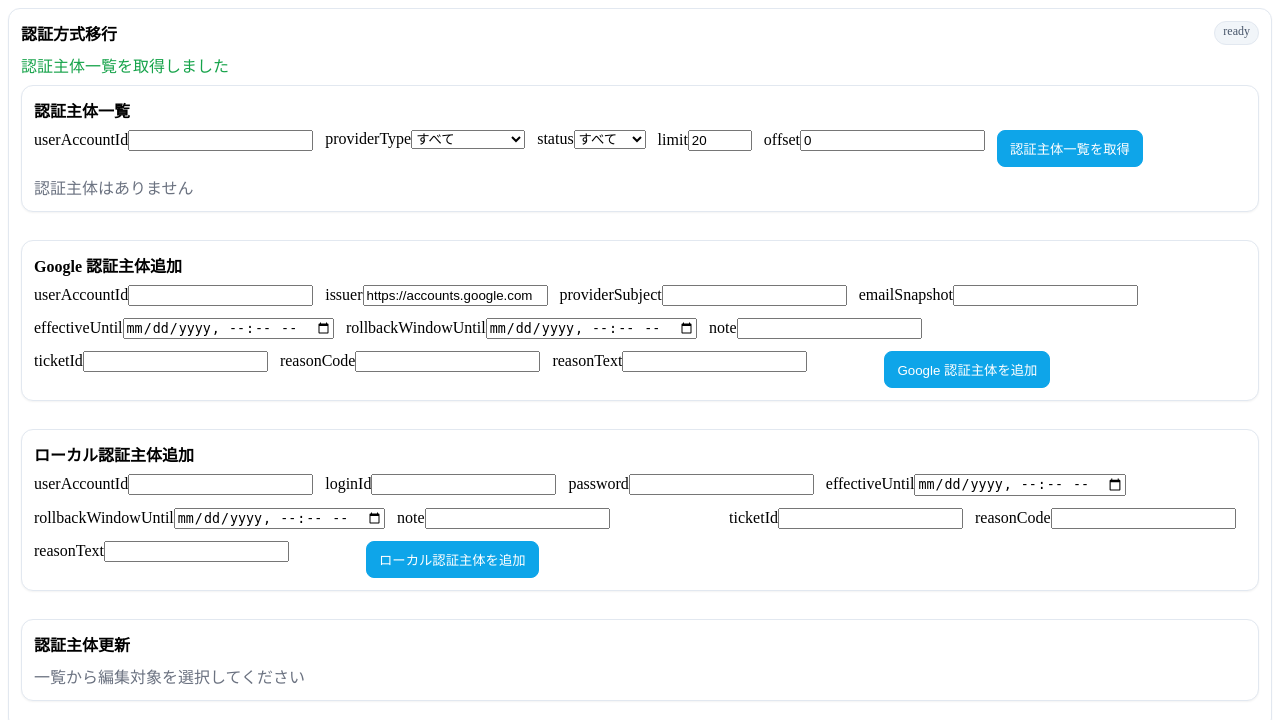
Test: AuthIdentityMigrationCard › shows server error when local link fails
Expected: the text "認証主体はありません" is shown, [34,180,194,197]
Step 1. Type "user-2" into the field with test id "local-link-user-account-id" → (221, 485), box [128,474,313,495]
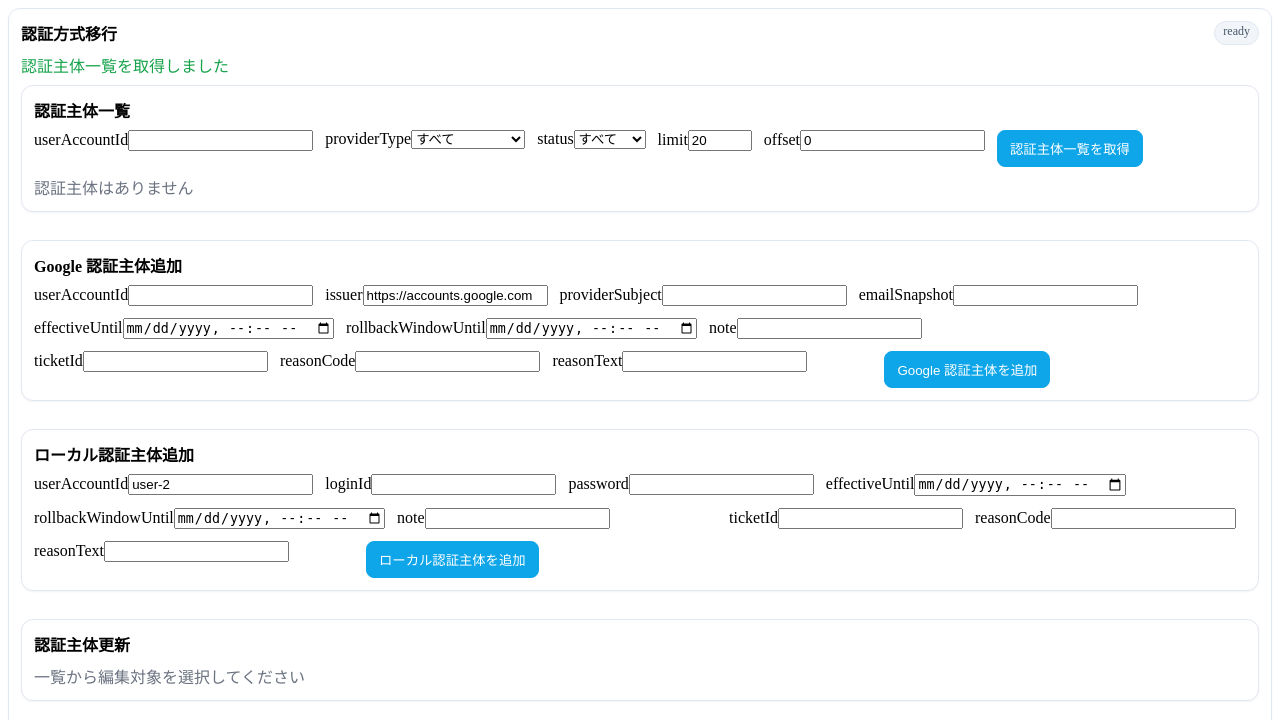
Step 2. Type "john@example.com" into the field with test id "local-link-login-id" → (464, 485), box [371,474,556,495]
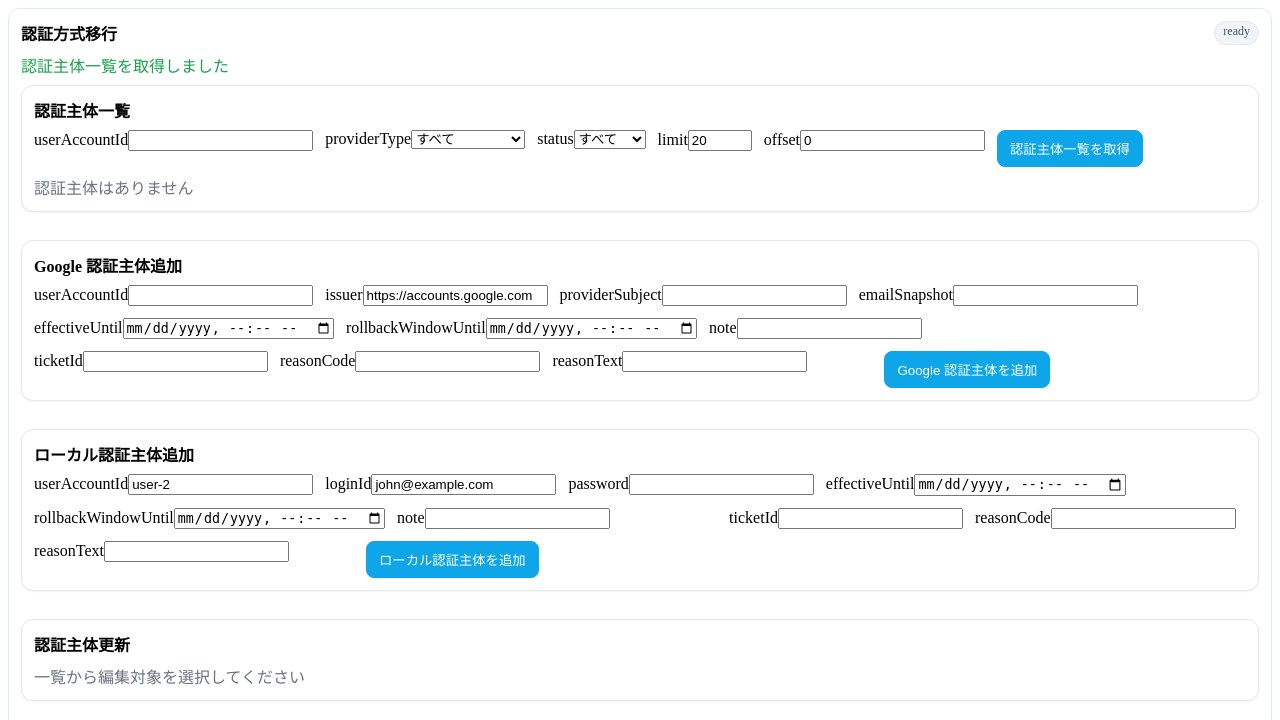
Step 3. Type "Password123!" into the password field with test id "local-link-password" → (721, 485), box [629,474,814,495]
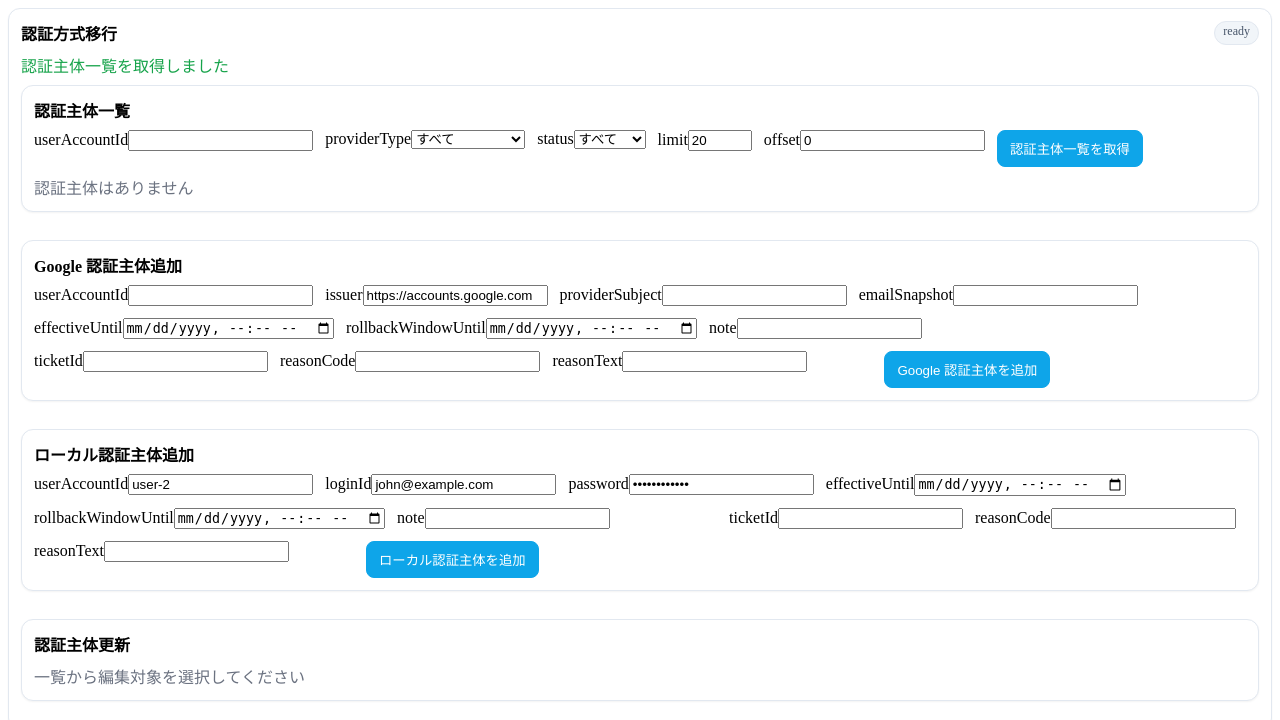
Step 4. Type "TICKET-2" into the field with test id "local-link-ticket-id" → (870, 518), box [778,508,963,529]
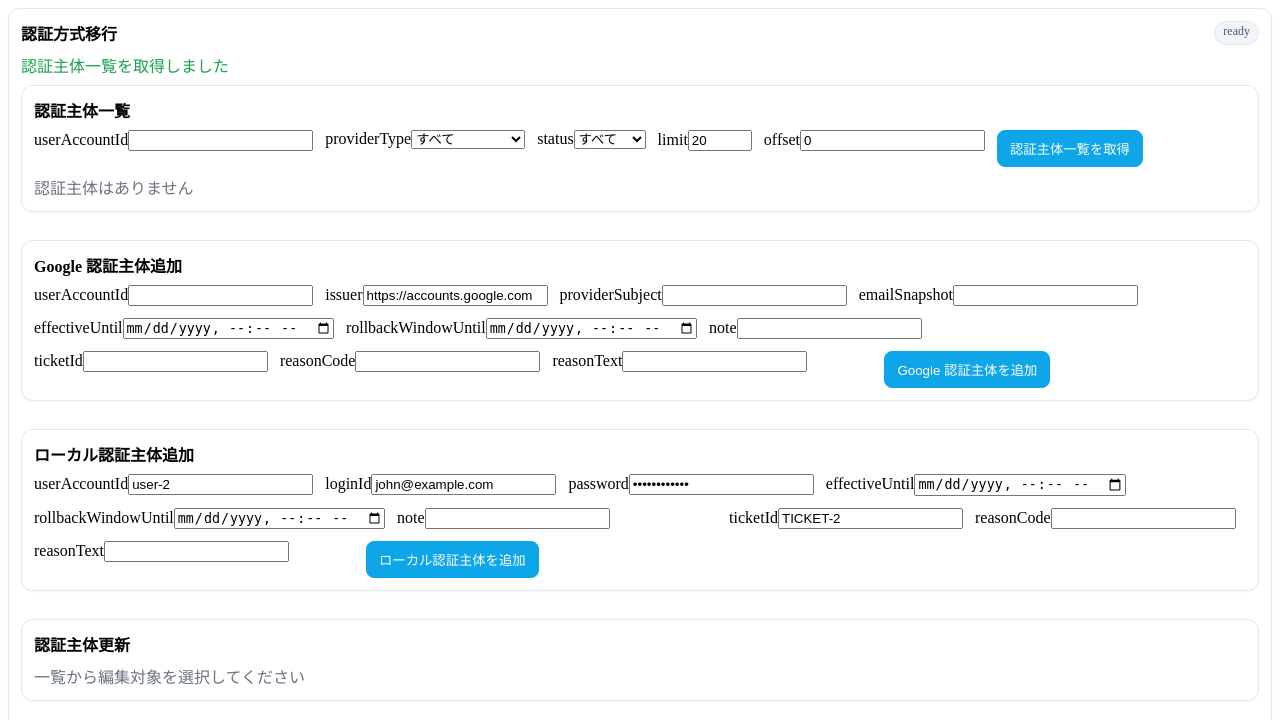
Step 5. Type "LOCAL_LINK" into the field with test id "local-link-reason-code" → (1143, 518), box [1050,508,1236,529]
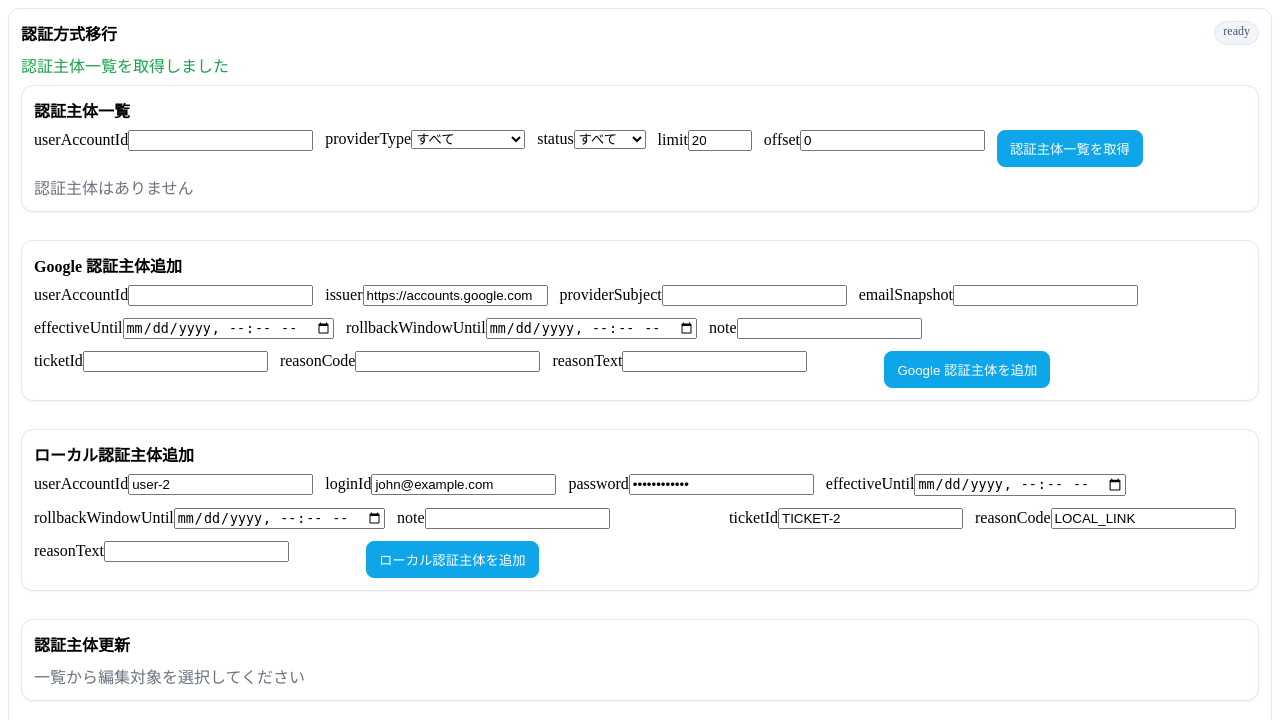
Step 6. Click the button with test id "local-link-submit" → (452, 560), box [366,541,539,578]
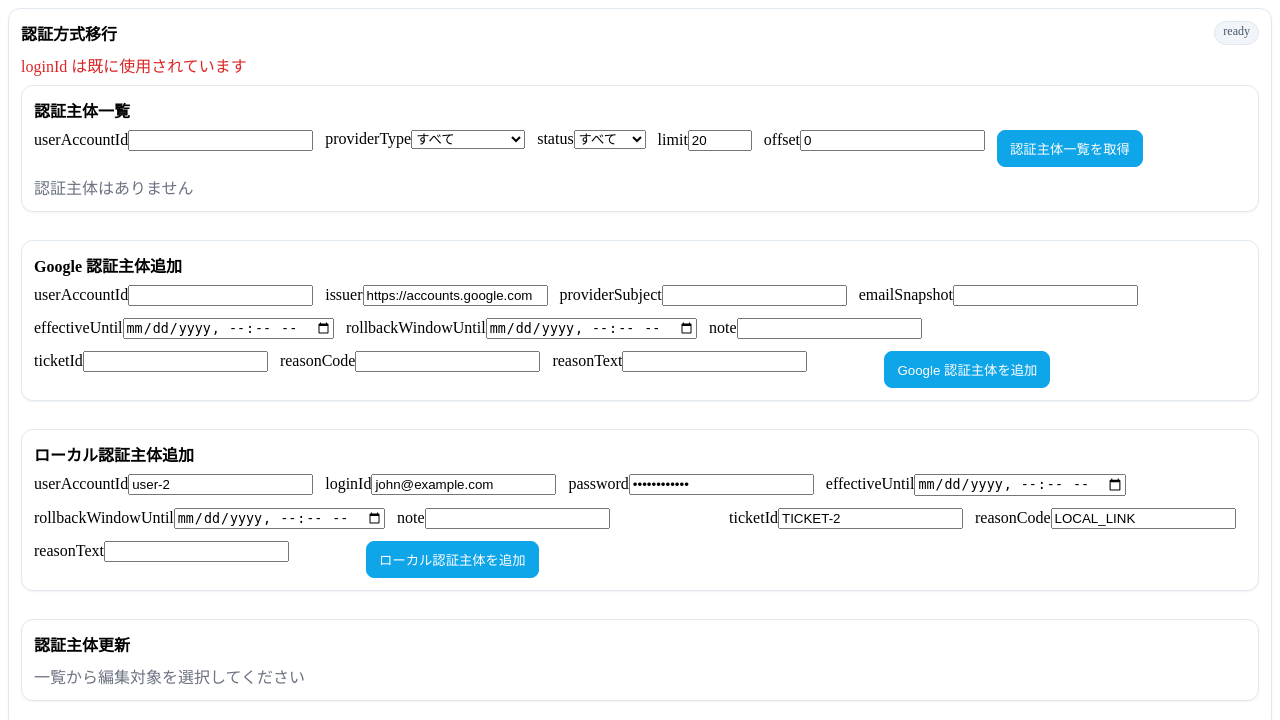
Result: the text "loginId は既に使用されています" is shown at [21,58,247,75]
